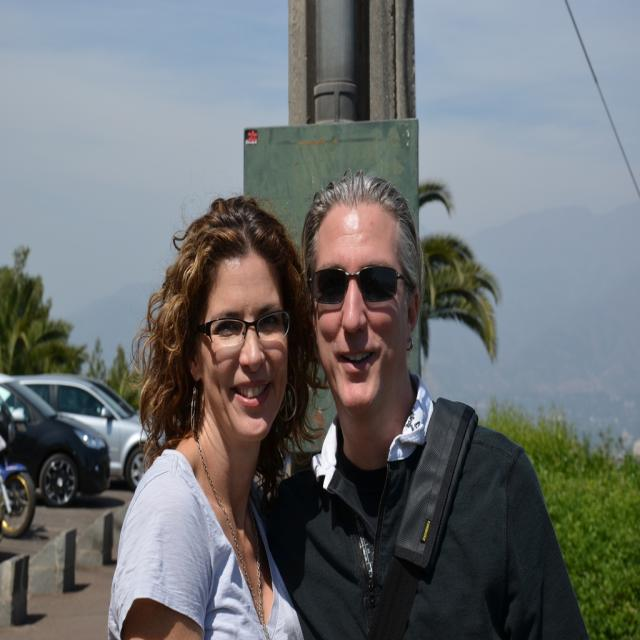car: (23, 373, 164, 489), (0, 374, 109, 510)
